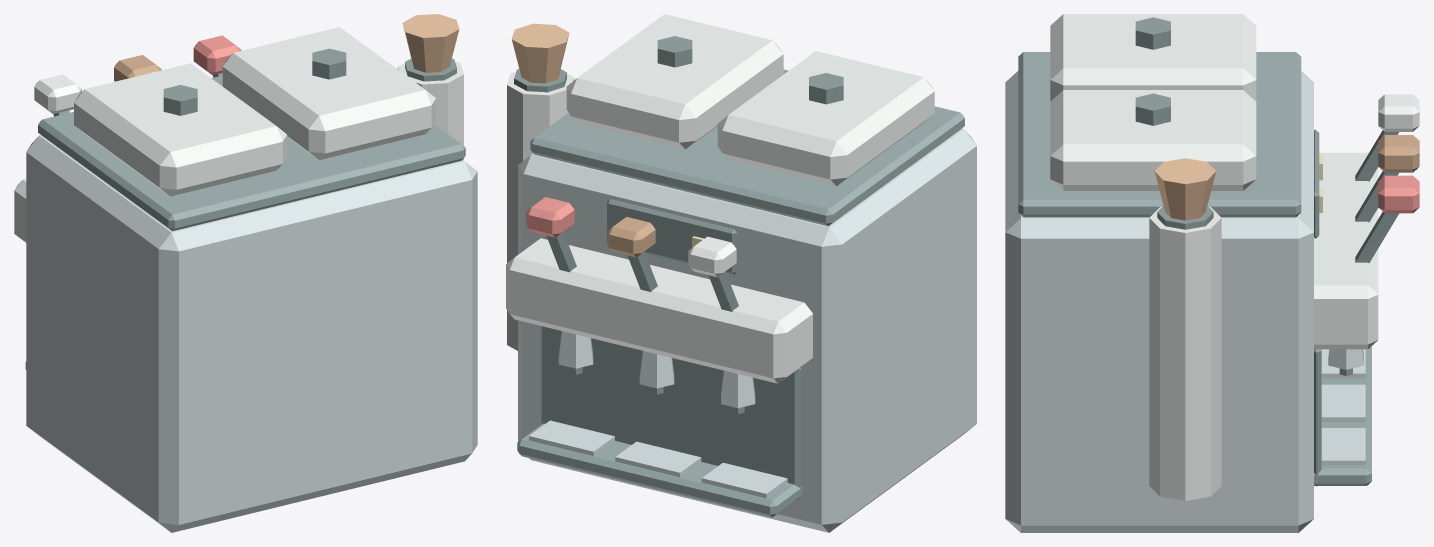
The model's file is soft_serve_machine.glb.
3 views of the same model, side by side, from view 1: azimuth 30°, elevation 25°; view 2: azimuth 150°, elevation 25°; view 3: azimuth 270°, elevation 25° (orthographic). The views are drawn at different scales.
Parts seen in each view (by area): view 1: SoftServeMachine; view 2: SoftServeMachine; view 3: SoftServeMachine.
Boxes of the visible parts, x1,y1,x2,y2 form: SoftServeMachine: (14, 14, 477, 532); SoftServeMachine: (506, 14, 976, 532); SoftServeMachine: (1005, 14, 1419, 532).
Bounding box in the file's own units: 0.3255 × 0.3073 × 0.2927.
